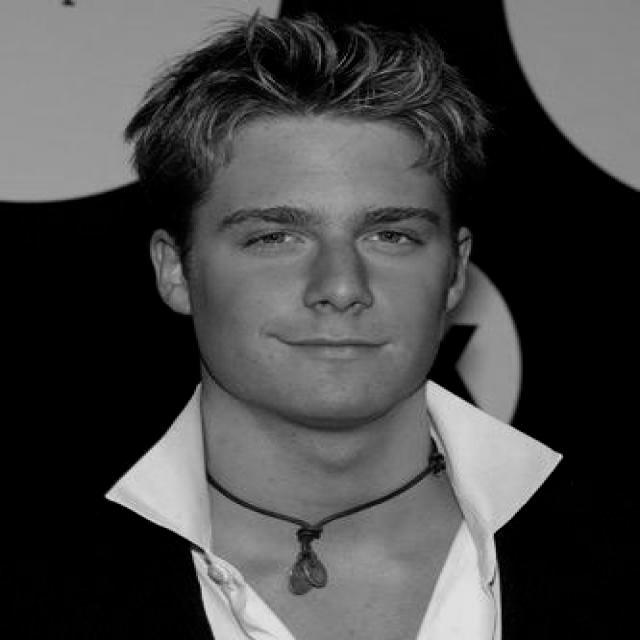real: (137, 101, 485, 439)
